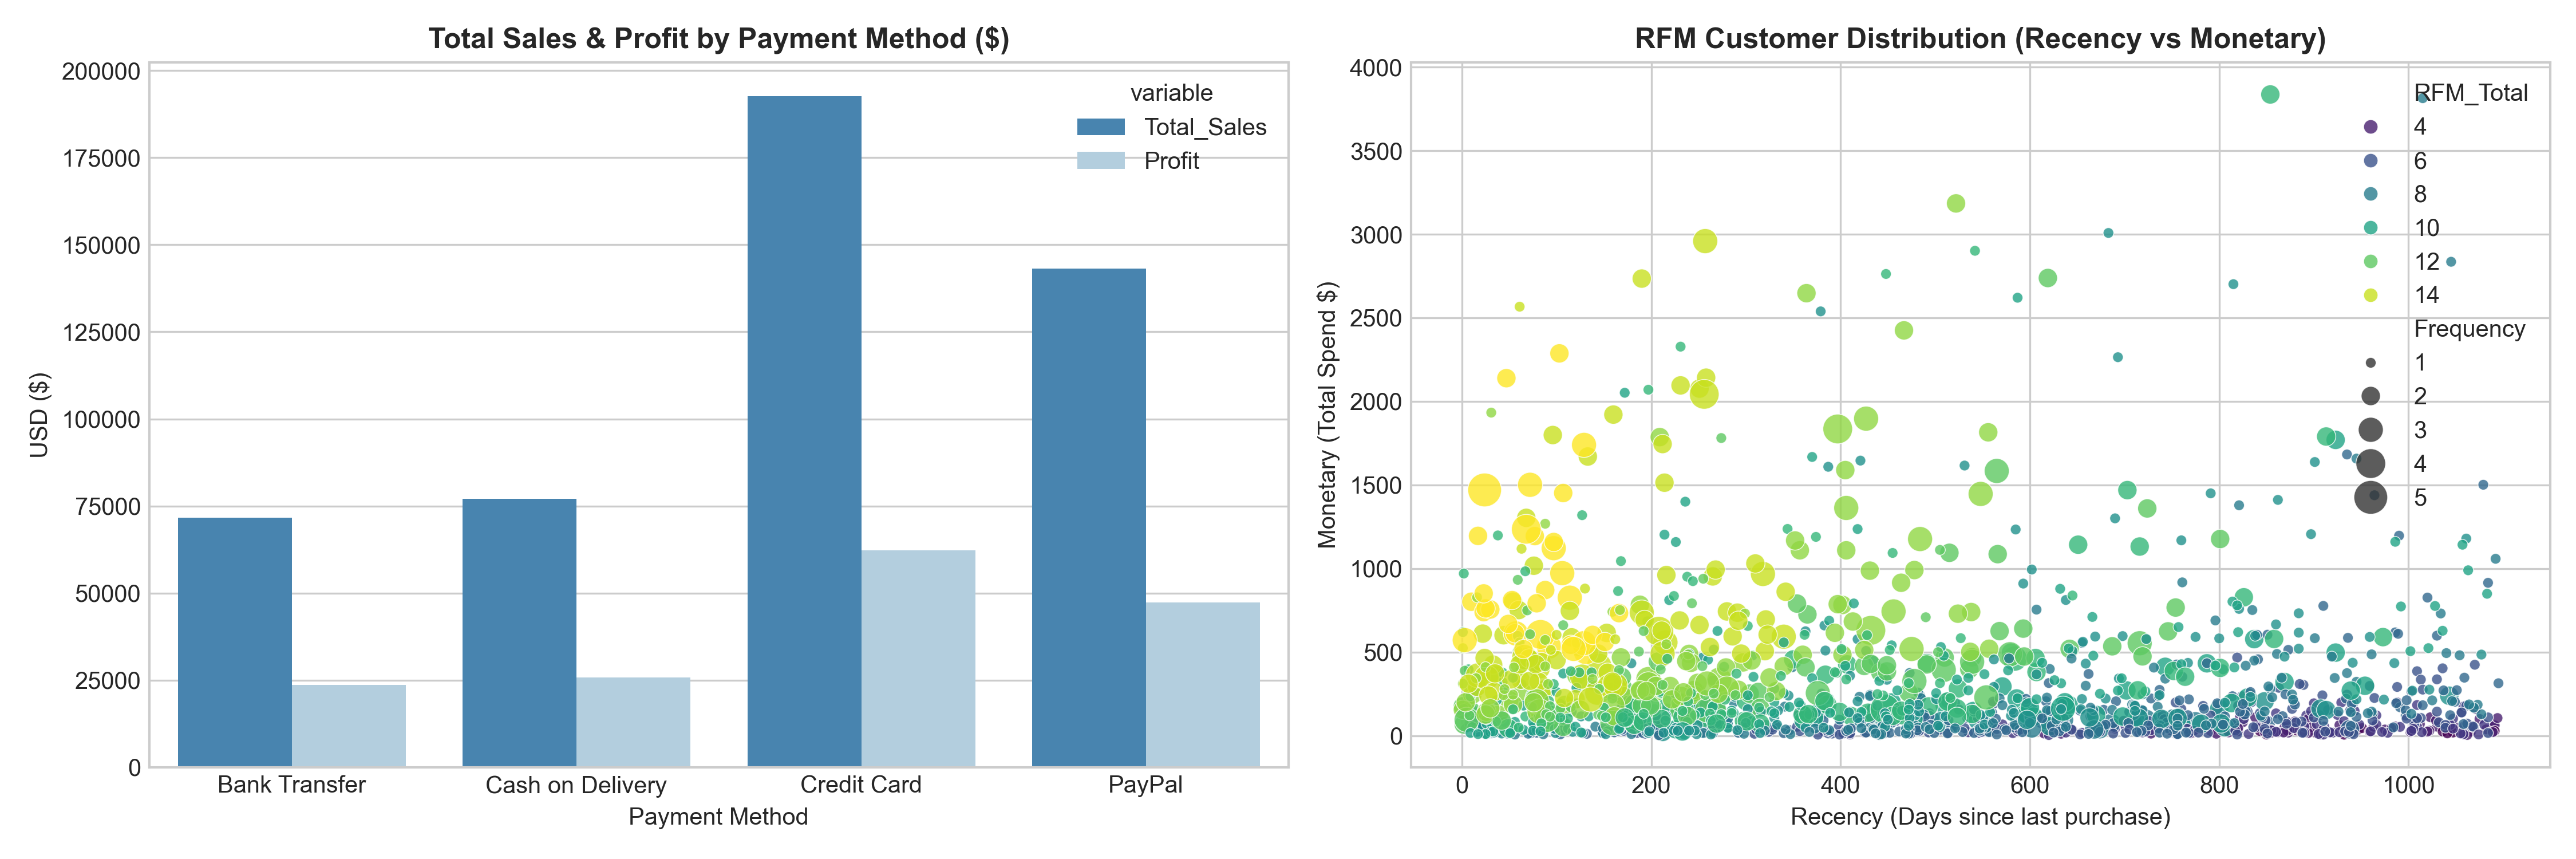

This screenshot's page, from the dashboard's own definition file:
{"tool":"tableau","page":{"name":"儀表板 1","canvas":[1000,800],"ordinal":0},"visuals":[{"type":"worksheet","title":"工作表 1","mark":"Square","rows":["first_month"],"cols":["month_number"],"box":[8,8,824,392]},{"type":"legend","title":"工作表 1","param":"[federated.1chh2fi1xfncfr17wy7ka0y0hxvf].[sum:active_users:qk]","box":[832,8,160,68]},{"type":"legend","title":"工作表 2","param":"[federated.0qdlk150uzl5lx1401ckp1r8wxth].[sum:rfm_total_score:qk]","box":[832,76,160,68]},{"type":"legend","title":"工作表 2","param":"[federated.0qdlk150uzl5lx1401ckp1r8wxth].[sum:frequency:qk]","box":[832,144,160,127]},{"type":"worksheet","title":"工作表 2","mark":"Automatic","rows":["monetary"],"cols":["recency"],"box":[8,400,824,392]}]}

Visuals, with their boxes on the page's 1000x800 design canvas (x1, y1, x2, y2). These are canvas units, not pixel positions in the 2576x859 screenshot, which may show the page scaled, cropped or inside an application window:
"工作表 1" worksheet (Square marks): left=8, top=8, right=832, bottom=400
"工作表 1" legend: left=832, top=8, right=992, bottom=76
"工作表 2" legend: left=832, top=76, right=992, bottom=144
"工作表 2" legend: left=832, top=144, right=992, bottom=271
"工作表 2" worksheet: left=8, top=400, right=832, bottom=792
